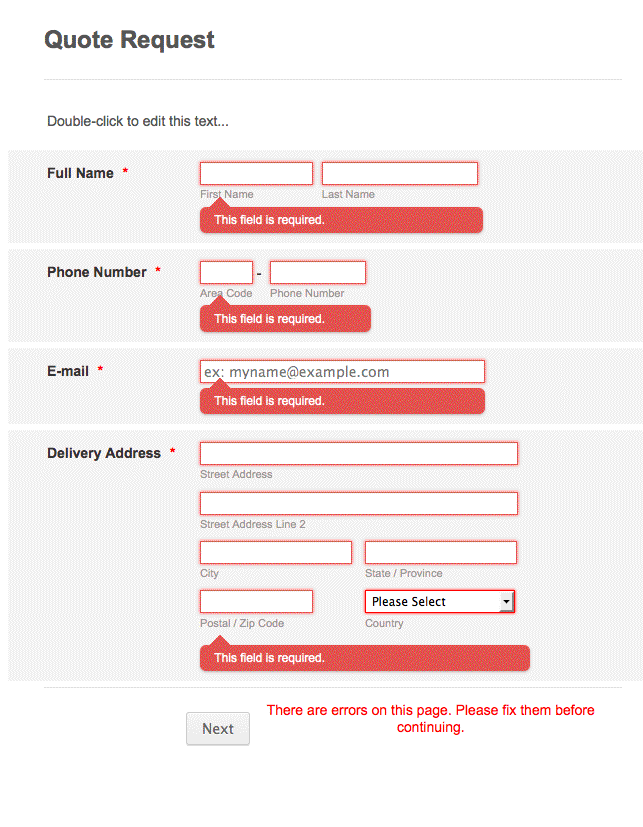error_field: (198, 490, 520, 517), (198, 441, 520, 467), (198, 359, 487, 385), (319, 161, 479, 187), (363, 540, 520, 566), (364, 589, 517, 615), (198, 540, 354, 565), (199, 160, 315, 187), (198, 589, 314, 614), (270, 259, 368, 286), (200, 259, 254, 286)
error_message: (266, 701, 599, 717), (212, 393, 327, 409), (211, 213, 327, 228), (212, 312, 327, 325), (214, 652, 327, 665), (396, 719, 467, 736)
